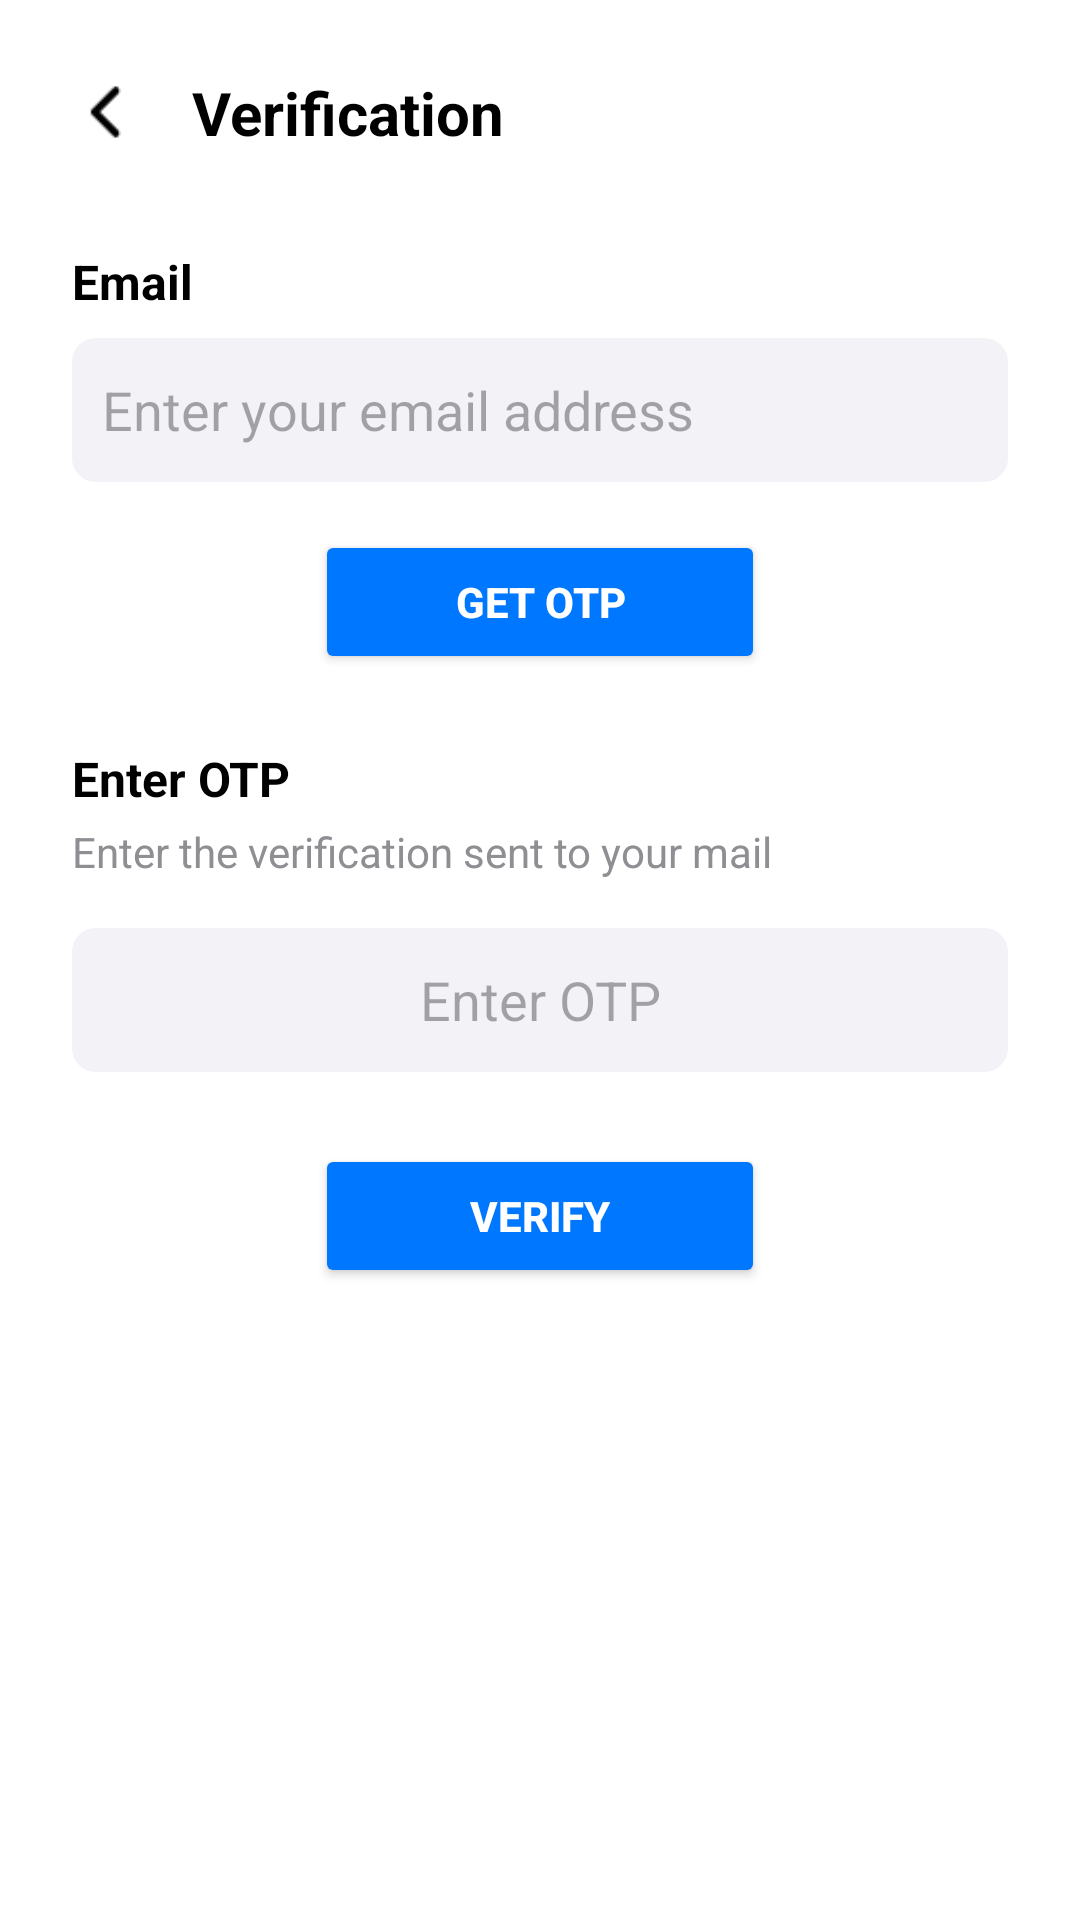

Screen size 1080x1920. Icon name, then its center in pixels as (x=x, y=y):
Back arrow: (x=105, y=112)
